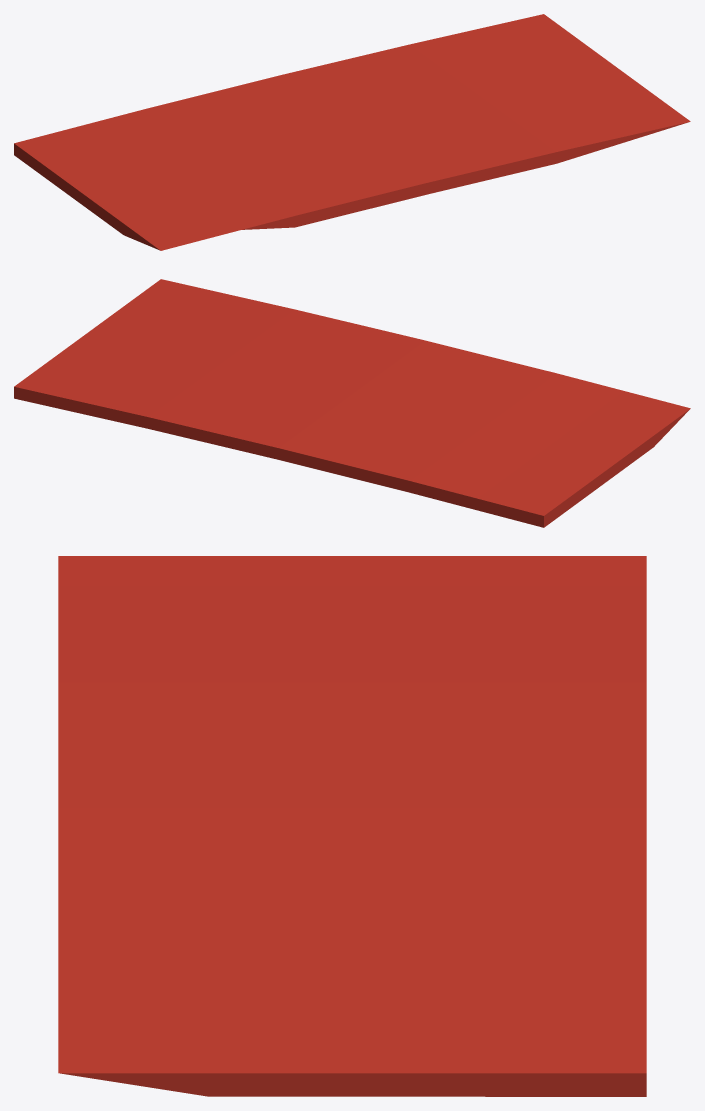
The model's file is kaze_gt_boot.glb.
3 views of the same model, one above another, from view 1: azimuth 30°, elevation 25°; view 2: azimuth 150°, elevation 25°; view 3: azimuth 270°, elevation 25° (orthographic). The views are drawn at different scales.
Visible parts, largest first — view 1: kaze_gt_boot; view 2: kaze_gt_boot; view 3: kaze_gt_boot.
Part boxes in pixels (left/top/right/bottom): kaze_gt_boot: left=14, top=14, right=690, bottom=250; kaze_gt_boot: left=14, top=279, right=690, bottom=527; kaze_gt_boot: left=58, top=556, right=646, bottom=1096.
Size of the model in its own units: 1.42 by 0.0385 by 0.6845.
